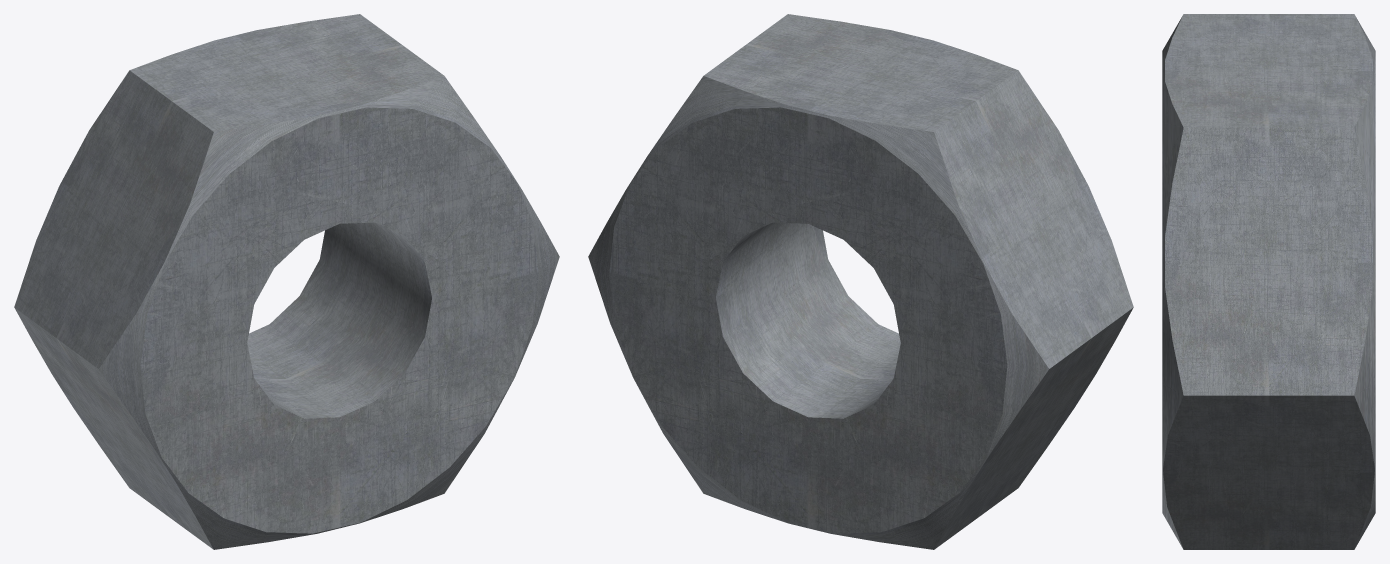
File: Ecrou_M4.obj
3 views of the same model, side by side, from view 1: azimuth 30°, elevation 25°; view 2: azimuth 150°, elevation 25°; view 3: azimuth 270°, elevation 25° (orthographic).
Visible parts, largest first — view 1: object__5; view 2: object__5; view 3: object__5.
Boxes of the visible parts, left/top/right/bottom form: object__5: left=14, top=14, right=559, bottom=549; object__5: left=588, top=14, right=1133, bottom=549; object__5: left=1162, top=14, right=1375, bottom=549.
Bounding box in the file's own units: 8.08 × 7 × 3.2.
